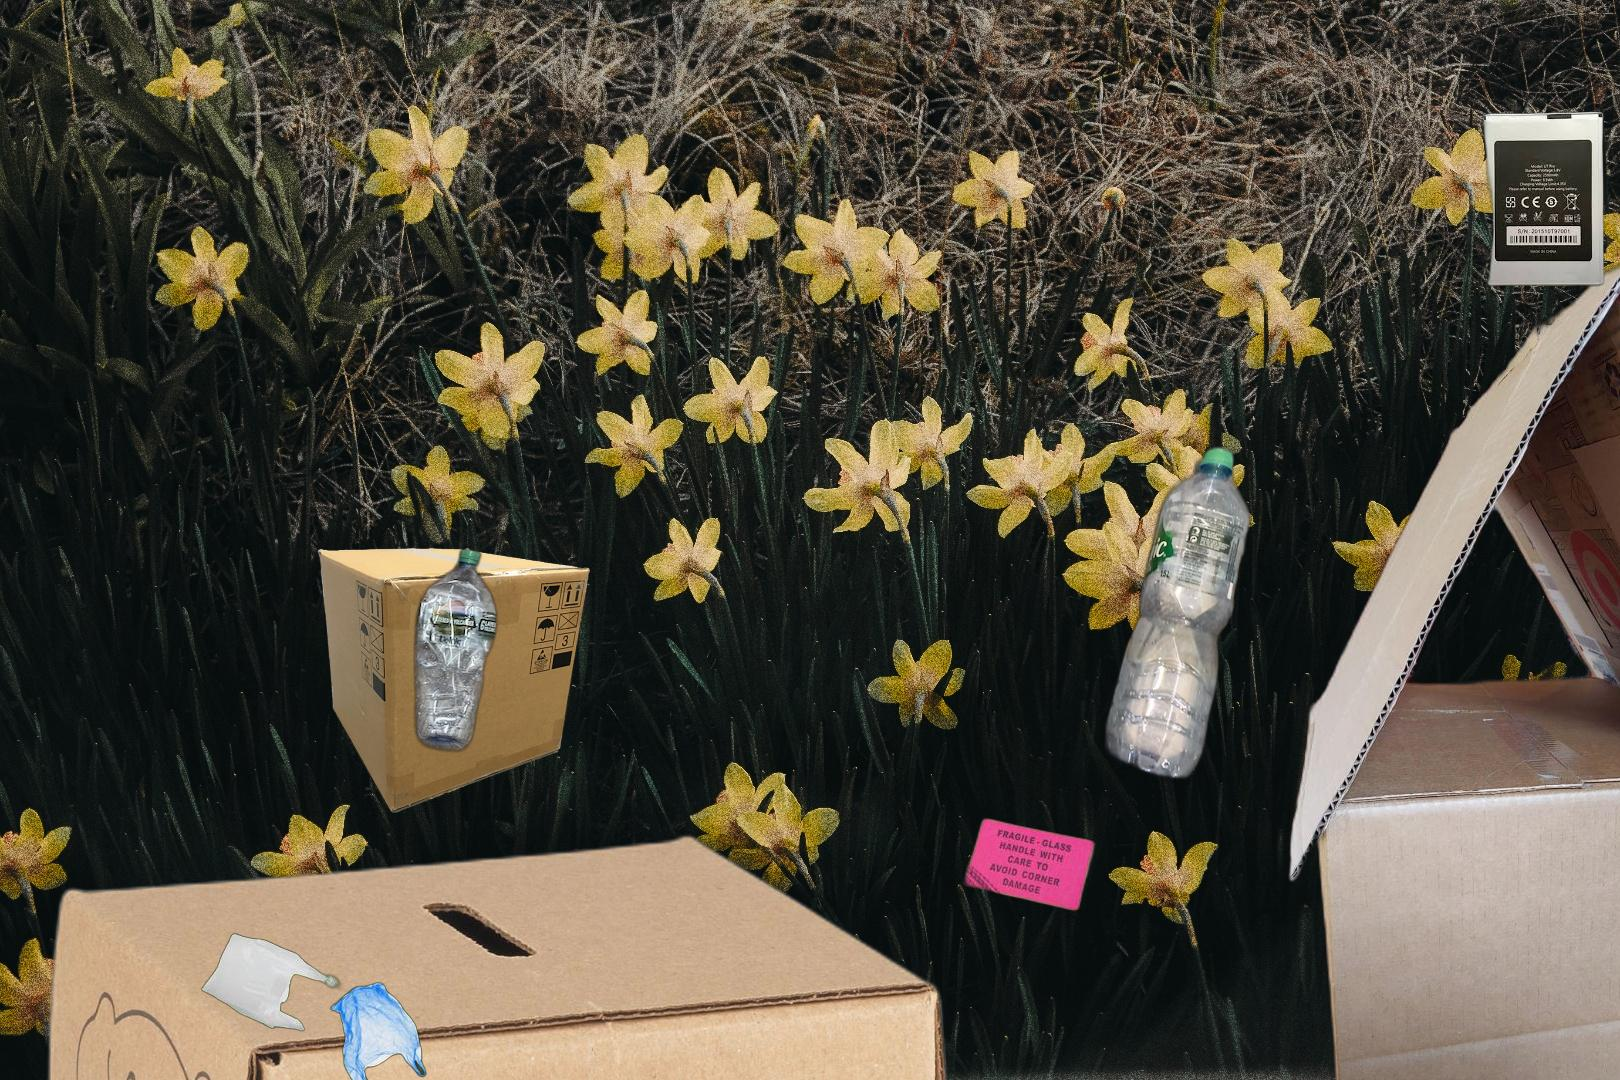battery: (1480, 109, 1607, 289)
plastic-bag: (198, 930, 428, 1080)
plastic-bottles: (1100, 441, 1256, 785), (409, 542, 501, 756)
trashbox-cardboard: (1282, 248, 1620, 1080), (14, 826, 963, 1080), (564, 623, 1101, 1063), (317, 547, 591, 813)
